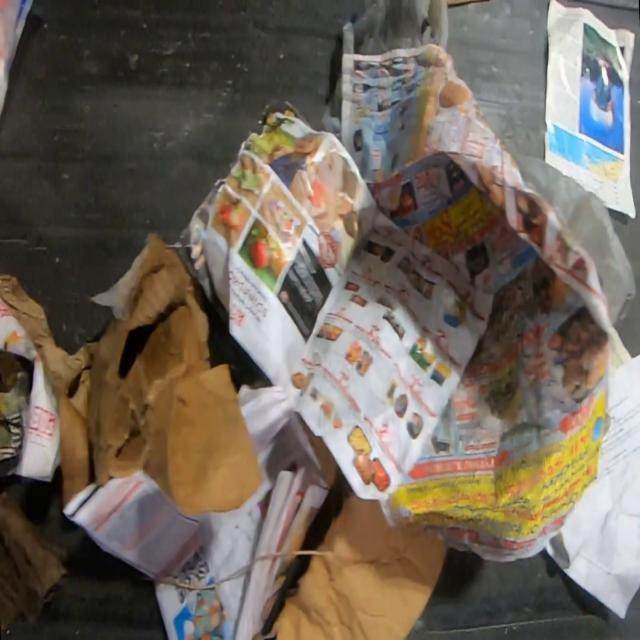cardboard: (0, 230, 263, 513), (265, 484, 452, 639), (0, 485, 65, 639)
soft_plastic: (502, 137, 636, 327), (341, 0, 450, 55)
